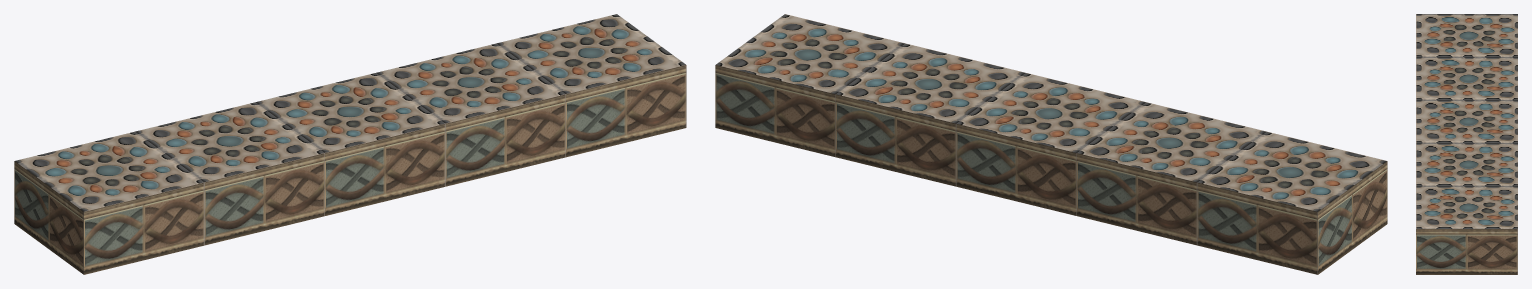
Rendered from DI_009_pattern_block_var05.glb.
The picture shows the model from 3 angles, left to right: view 1: azimuth 30°, elevation 25°; view 2: azimuth 150°, elevation 25°; view 3: azimuth 270°, elevation 25°; orthographic projection. The views are drawn at different scales.
Visible parts, largest first — view 1: Block.013, Block.017, Block.014, Block.015, Block.016; view 2: Block.013, Block.017, Block.014, Block.015, Block.016; view 3: Block.017, Block.013, Block.014, Block.015, Block.016.
Part boxes in pixels (x1,y1,x2,y2): Block.013: (14,131,204,274); Block.017: (497,14,686,157); Block.014: (135,102,324,245); Block.015: (256,73,445,215); Block.016: (376,43,565,186); Block.013: (1197,131,1387,274); Block.017: (715,14,904,157); Block.014: (1077,102,1266,245); Block.015: (956,73,1145,215); Block.016: (836,43,1025,186); Block.017: (1416,186,1517,274); Block.013: (1416,14,1517,56); Block.014: (1416,57,1517,99); Block.015: (1416,100,1517,142); Block.016: (1416,143,1517,185).
Size of the model in its own units: 3.75 by 0.375 by 0.75.
Materials: 1 (1 with a texture image).
